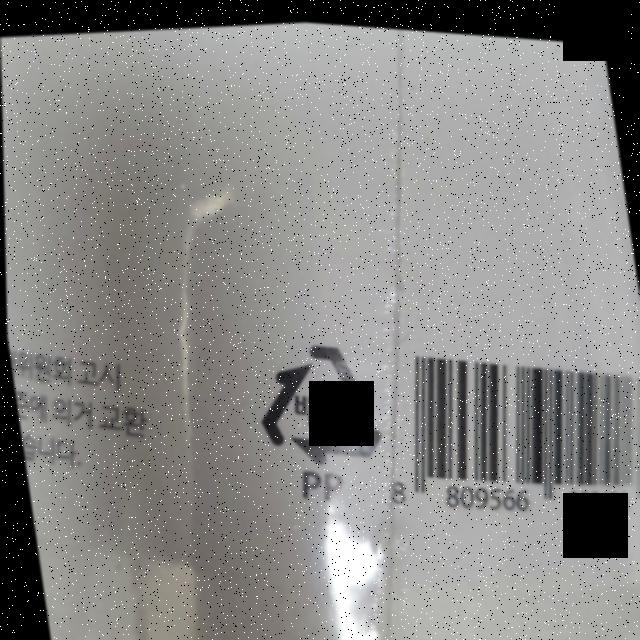Vinyl: (242, 321, 387, 474)
